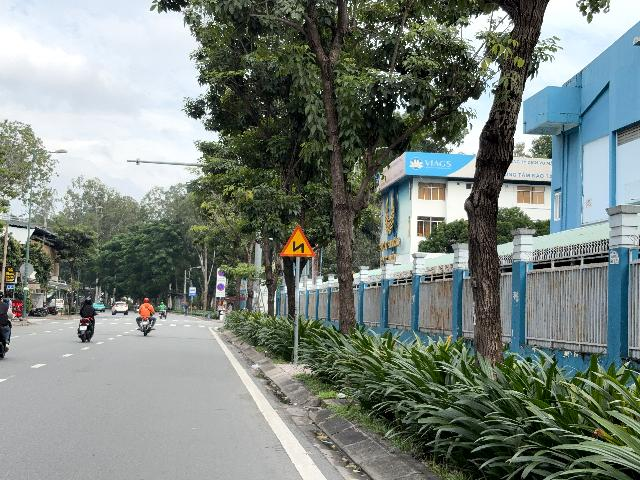nhieu-cho-ngoat-nguy-hiem-lien-tiep: (280, 224, 317, 257)
